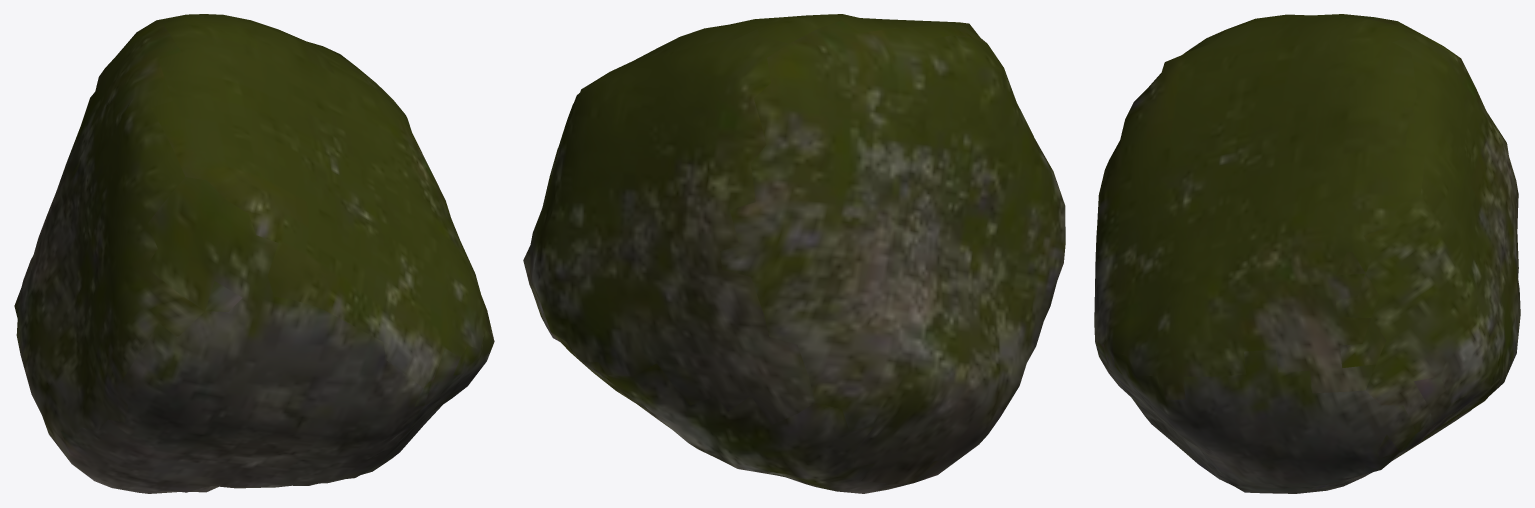
File: rock1.glb
3 renders of one model, left to right at view 1: azimuth 30°, elevation 25°; view 2: azimuth 150°, elevation 25°; view 3: azimuth 270°, elevation 25°, orthographic. The views are drawn at different scales.
Parts seen in each view (by area): view 1: A_Set; view 2: A_Set; view 3: A_Set.
Boxes of the visible parts, x1,y1,x2,y2 form: A_Set: (14, 14, 494, 493); A_Set: (523, 14, 1065, 493); A_Set: (1094, 14, 1520, 493).
Bounding box in the file's own units: 5.46 × 5.41 × 5.04.
Materials: 1 (1 with a texture image).
